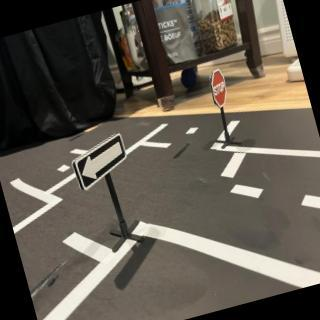sign_oneway_left: (70, 133, 133, 192)
sign_stop: (208, 68, 233, 110)
